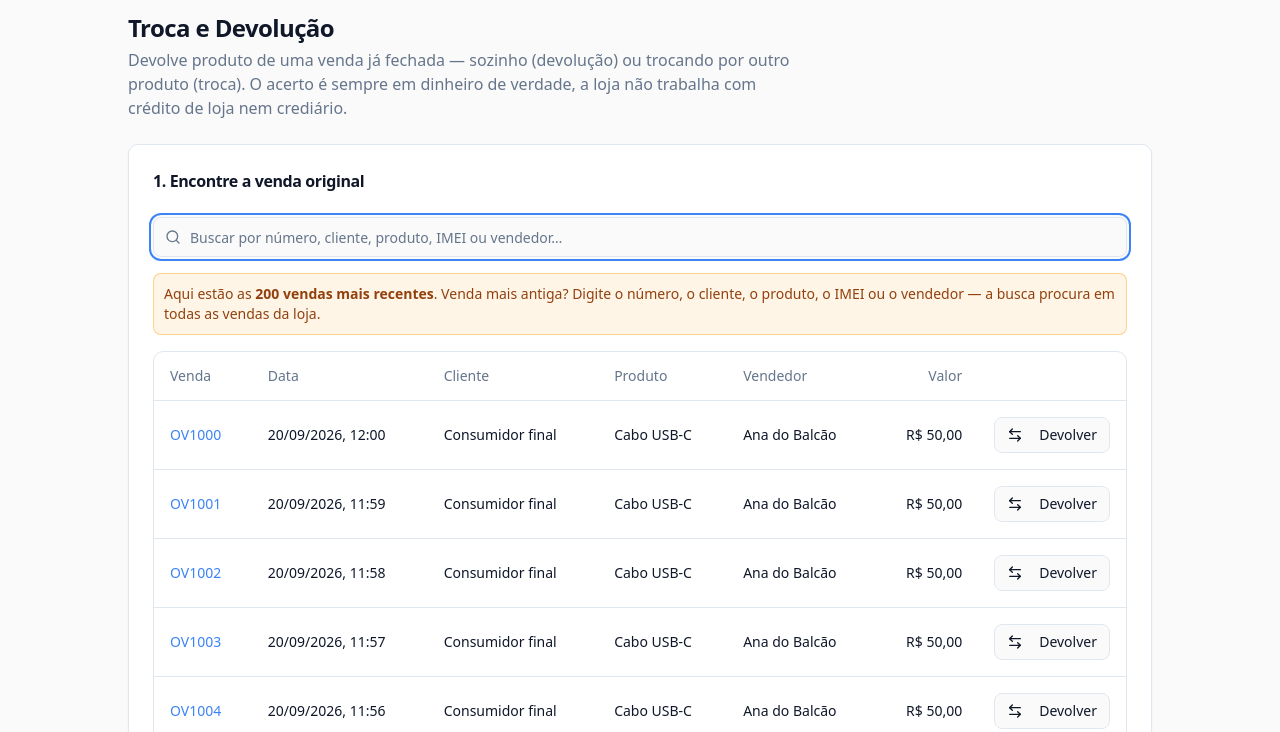
Scenario: Troca e Devolução: a busca vai ao banco inteiro › acha pelo NÚMERO uma venda fora das 200 recentes
The width and height of the screenshot is (1280, 732).
Expected: the button "OV1000" is shown, [170, 424, 221, 444]
Type "OV0001" into the field with placeholder "Buscar por número, cliente, produto, IMEI ou vendedor…" at (640, 237), box [153, 217, 1127, 257]
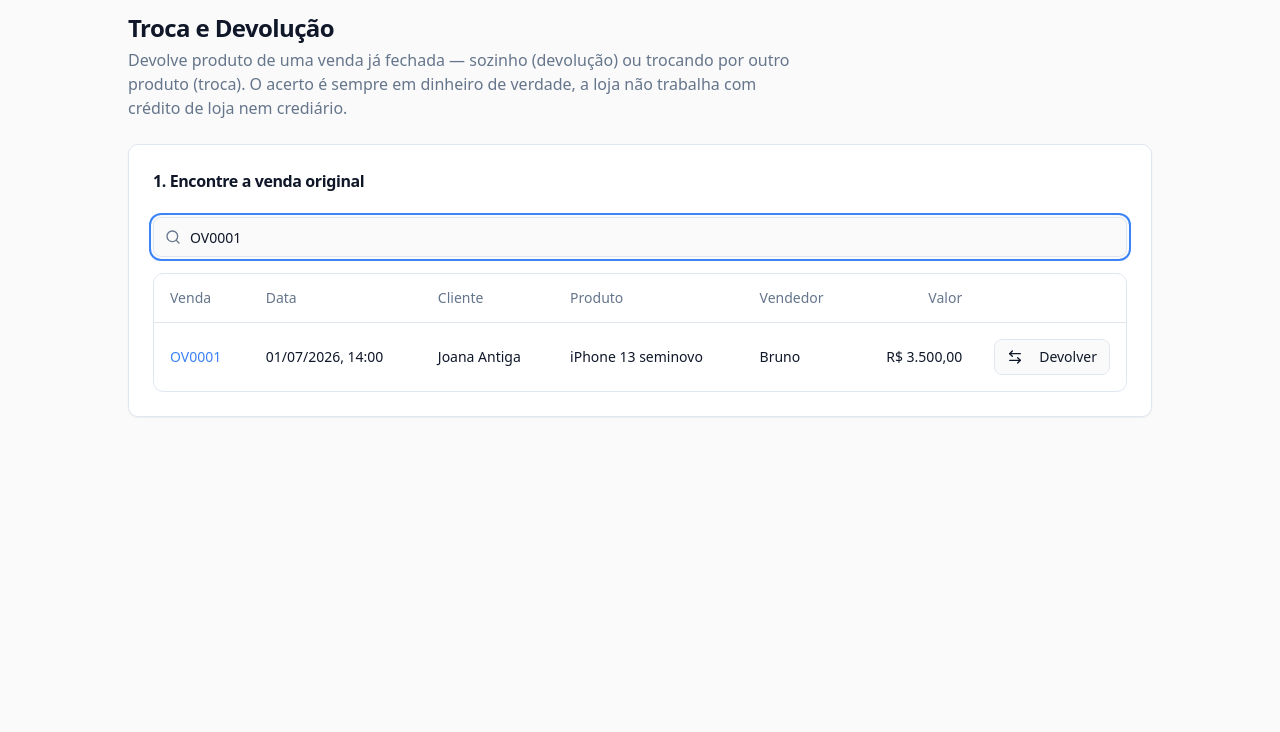
Now the button "OV0001" is shown, box [170, 346, 221, 366]
